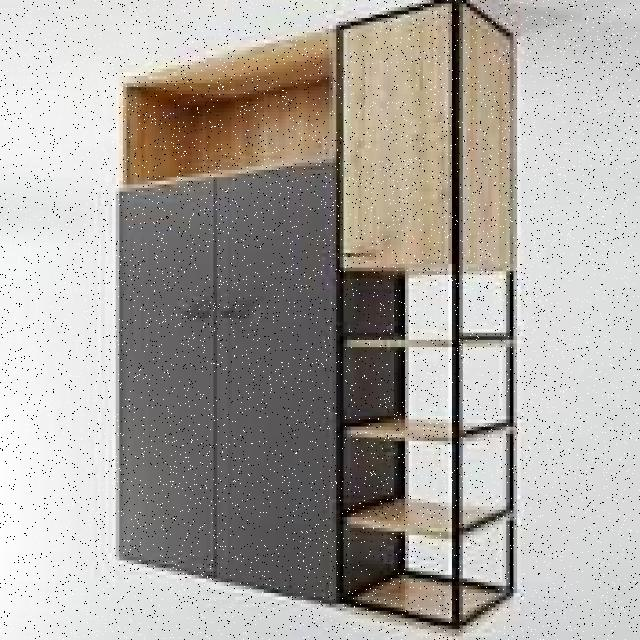mobile-phone: (113, 0, 521, 631)
